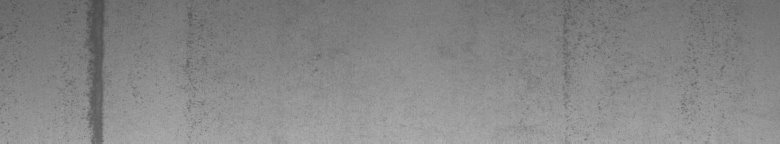hd: (53, 4, 111, 136)
